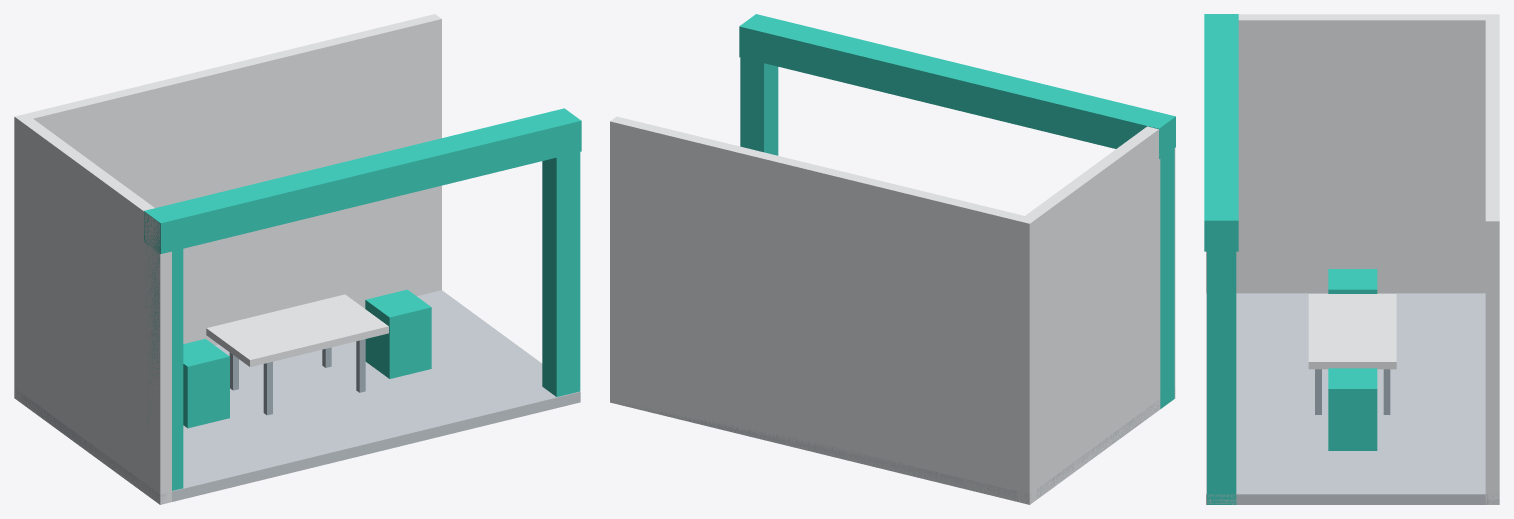
The picture shows the model from 3 angles, left to right: view 1: azimuth 30°, elevation 25°; view 2: azimuth 150°, elevation 25°; view 3: azimuth 270°, elevation 25°; orthographic projection.
Parts seen in each view (by area): view 1: Exhibition Booth Concept; view 2: Exhibition Booth Concept; view 3: Exhibition Booth Concept.
Part boxes in pixels (x1,y1,x2,y2): Exhibition Booth Concept: [14, 14, 581, 504]; Exhibition Booth Concept: [610, 14, 1175, 504]; Exhibition Booth Concept: [1204, 14, 1499, 504].
Size of the model in its own units: 5 by 3.2 by 3.01.
